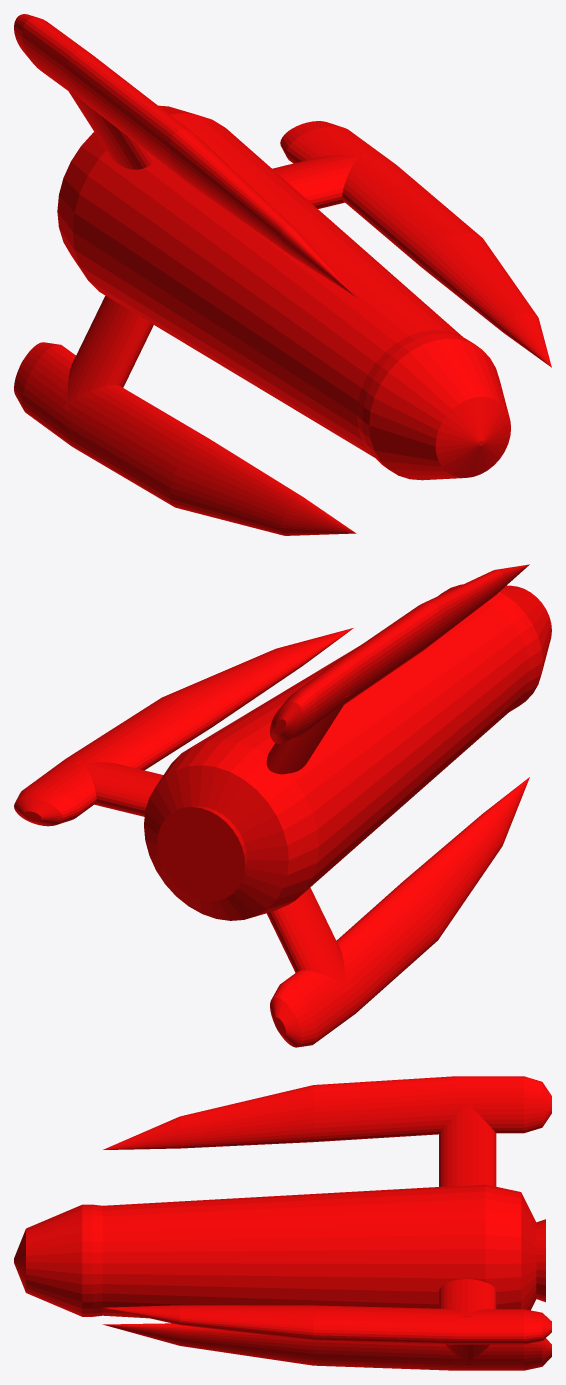
Rendered from DrakhFighter.fbx.
3 views of the same model, one above another, from view 1: azimuth 30°, elevation 25°; view 2: azimuth 150°, elevation 25°; view 3: azimuth 270°, elevation 25° (orthographic). The views are drawn at different scales.
Visible parts, largest first — view 1: Cylinder; view 2: Cylinder; view 3: Cylinder.
Part boxes in pixels (x1,y1,x2,y2): Cylinder: (14,14,551,535); Cylinder: (14,564,551,1047); Cylinder: (14,1076,551,1370).
Size of the model in its own units: 105 by 120 by 200.
